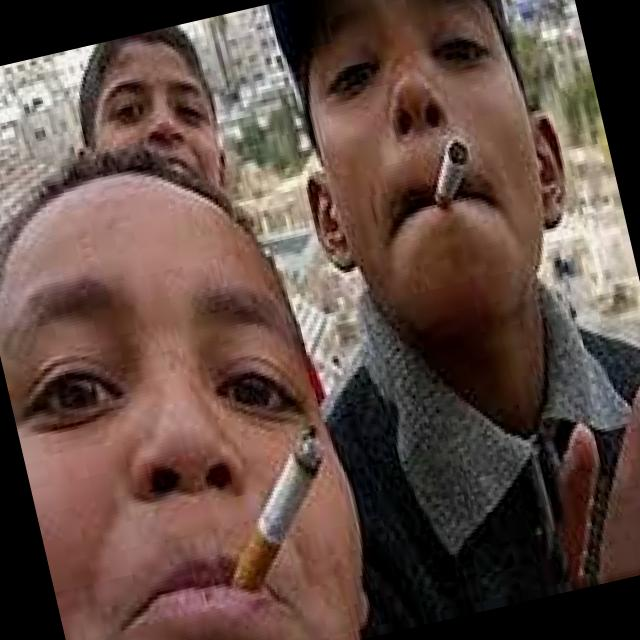cigarette: (175, 382, 353, 610), (401, 107, 502, 230)
